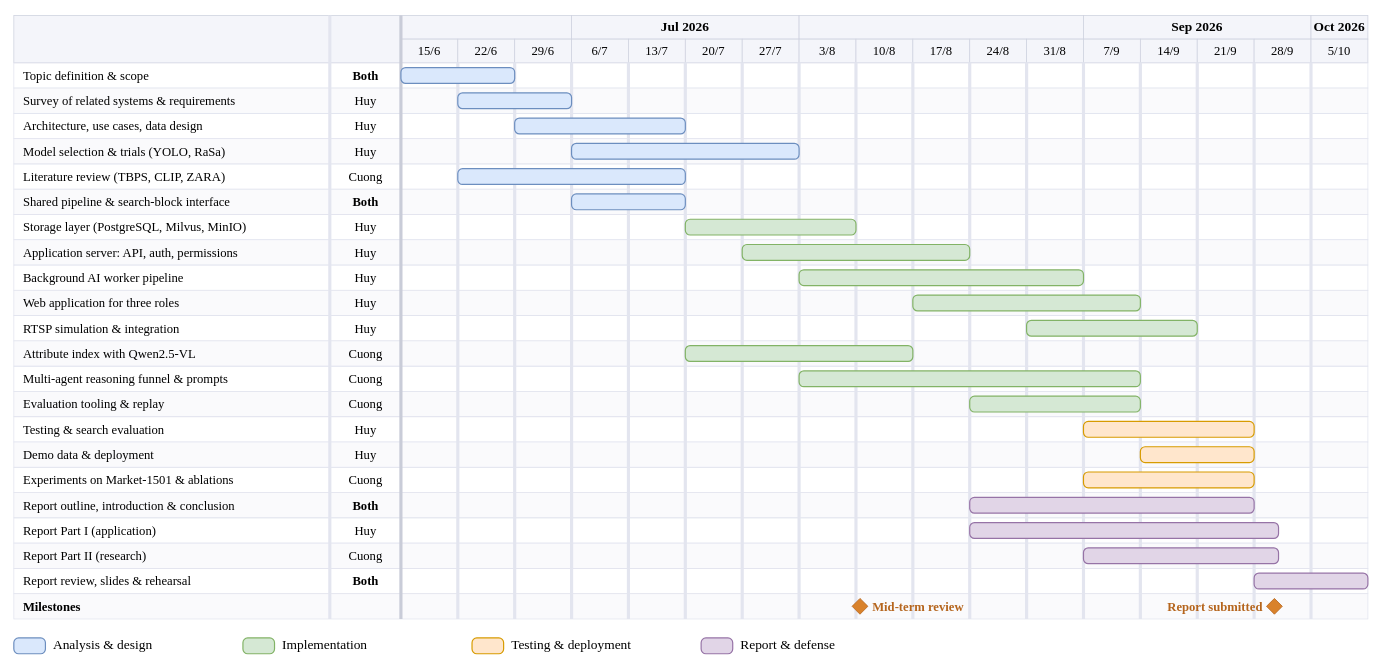
Some shapes in this 1383 by 672 pixel diagram are drawn without their labels. Here are the shapes that lost their labels. From the top down, the centre of each, then its label:
At (171,39): "Task".
At (365,39): "Member".
At (486,27): "Jun 2026".
At (940,27): "Aug 2026".
